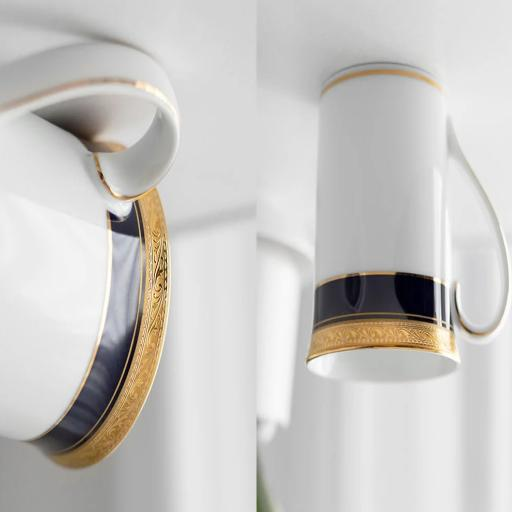cup: (0, 44, 180, 468), (307, 65, 511, 382)
